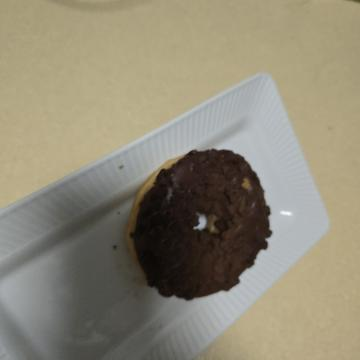doughnut: (140, 84, 310, 254)
